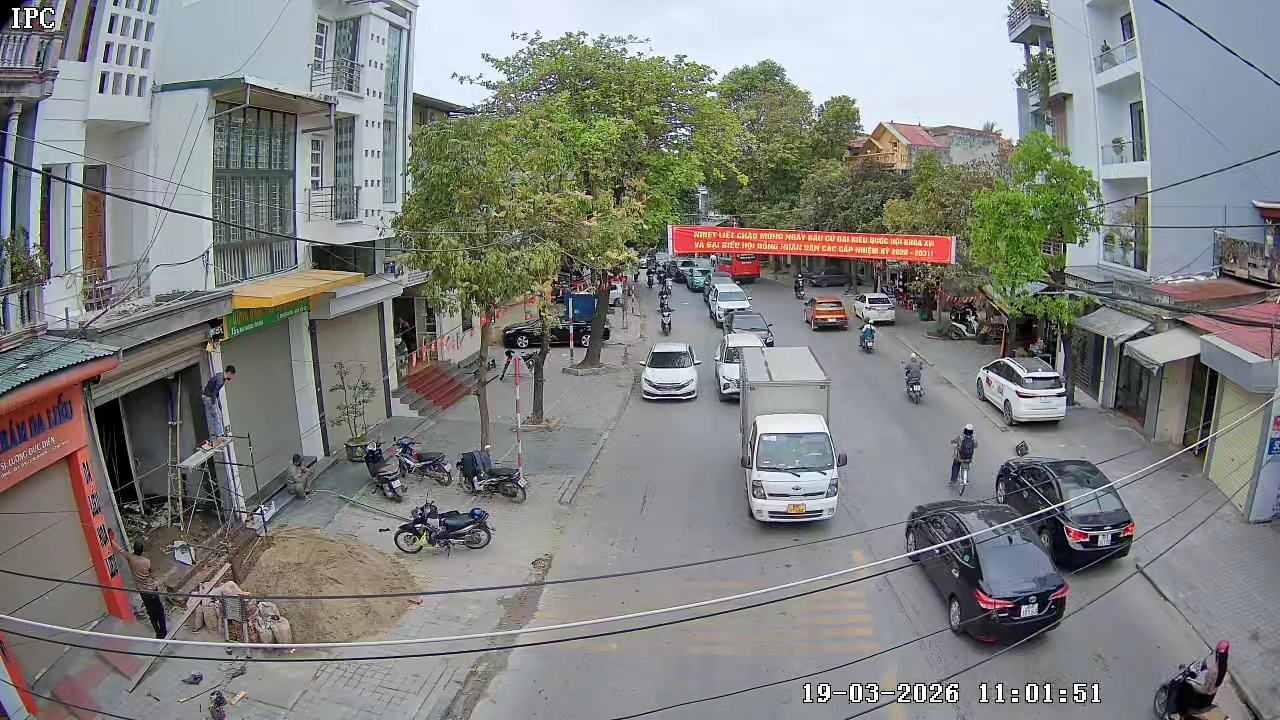bike: (948, 422, 979, 495)
car: (1039, 484, 1136, 571), (975, 353, 1068, 428), (639, 340, 705, 402), (707, 285, 752, 330), (804, 293, 850, 331), (729, 315, 776, 349), (856, 293, 898, 327), (717, 356, 745, 404)
motorbike: (393, 495, 496, 555), (457, 438, 530, 502), (125, 570, 170, 640), (902, 352, 927, 406), (857, 320, 878, 353), (658, 300, 674, 334)
truck: (740, 344, 846, 525), (921, 517, 1070, 643)
